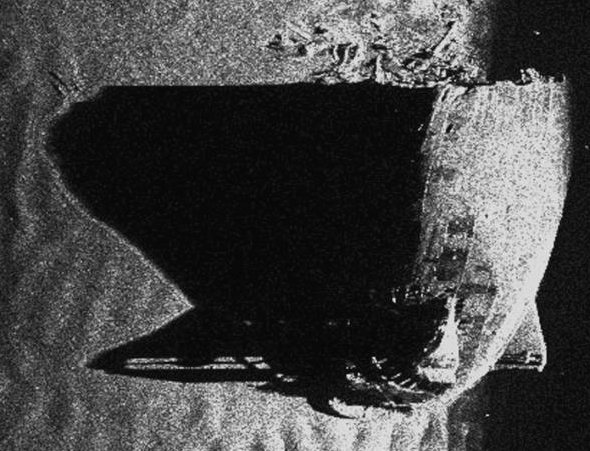ship: (338, 65, 578, 409)
